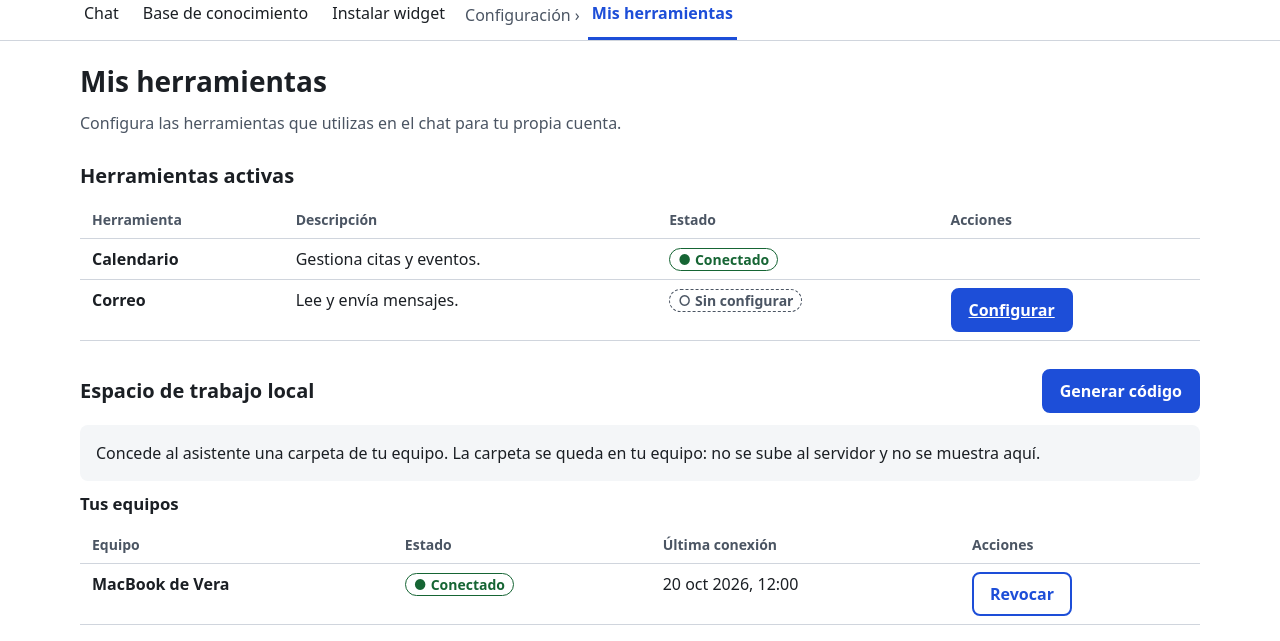
it: MyToolsPage: local workspace card › revokes a device only after the confirmation and removes it from the list
Expected: the table named "Herramientas activas de tu empresa" is shown, top-left (80, 201), bottom-right (1200, 341)
Expected: the column heading "MacBook de Vera" is shown, top-left (80, 564), bottom-right (393, 625)
Click the button named "Revocar «MacBook de Vera»" at (1022, 594), box top-left (972, 572), bottom-right (1072, 616)
(page scrolled)
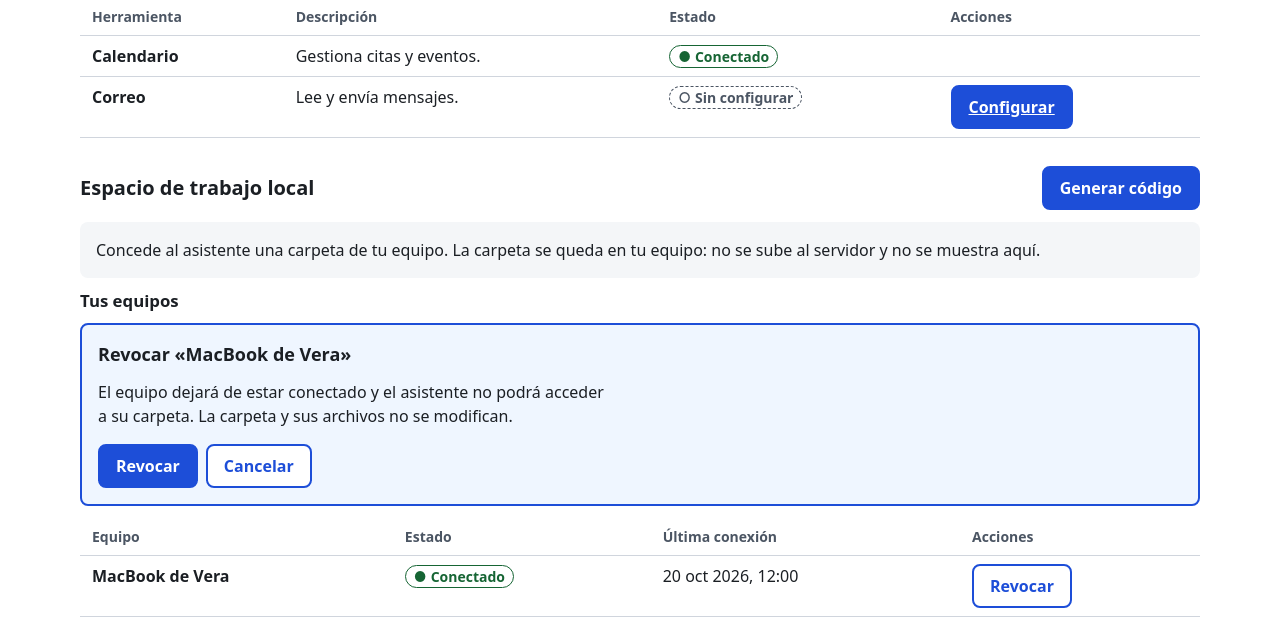
Expected: the element "Revocar «MacBook de Vera»" shows "El equipo dejará de estar conectado", top-left (98, 381), bottom-right (604, 427)
Click the button "Revocar" below "Revocar «MacBook de Vera»" at (148, 466), box top-left (98, 444), bottom-right (198, 488)
(page scrolled)
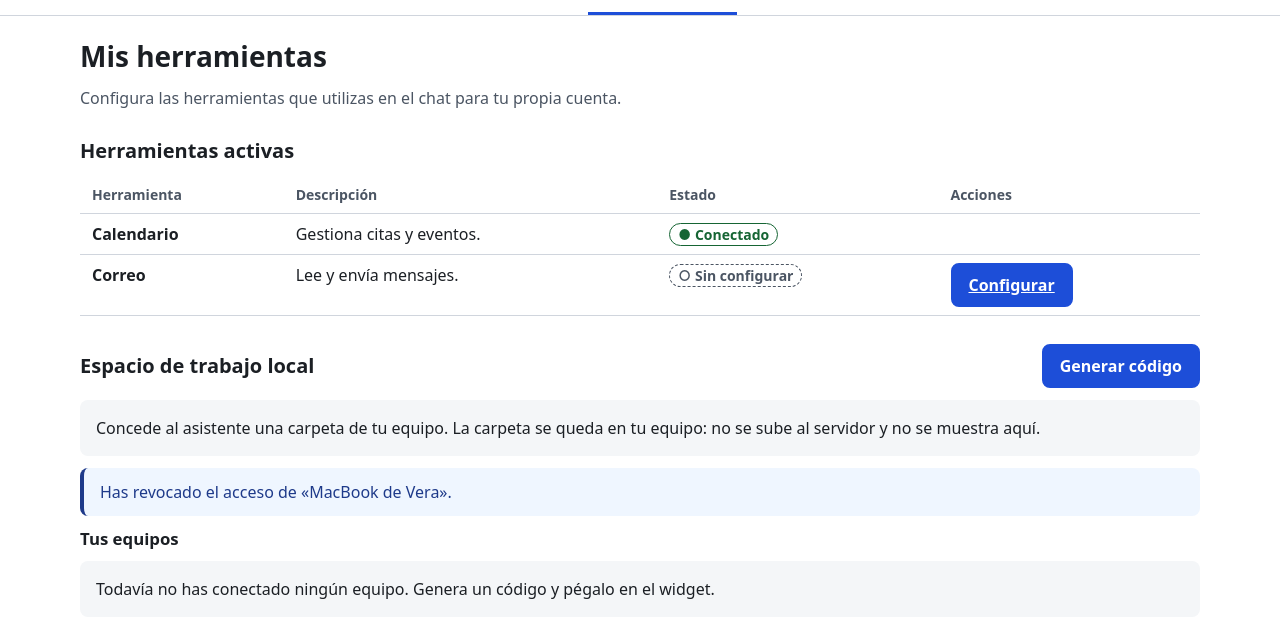
Expected: the message reads "Has revocado el acceso de «MacBook de Vera».", top-left (100, 481), bottom-right (452, 503)
